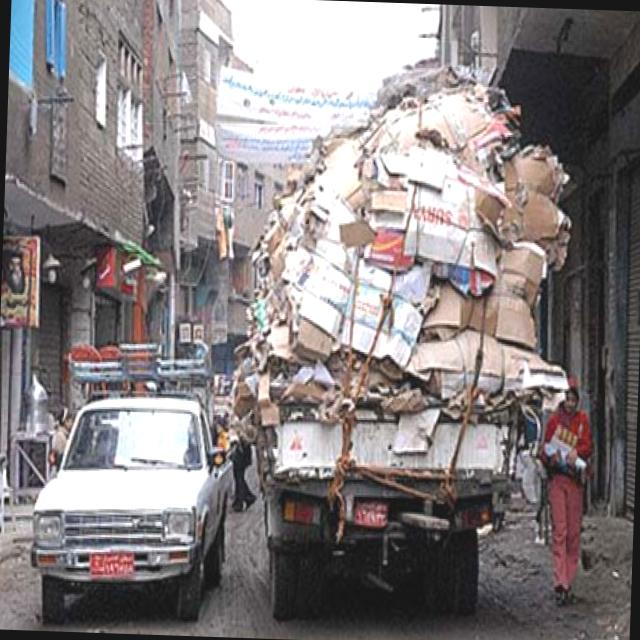garbage: (248, 54, 576, 412)
